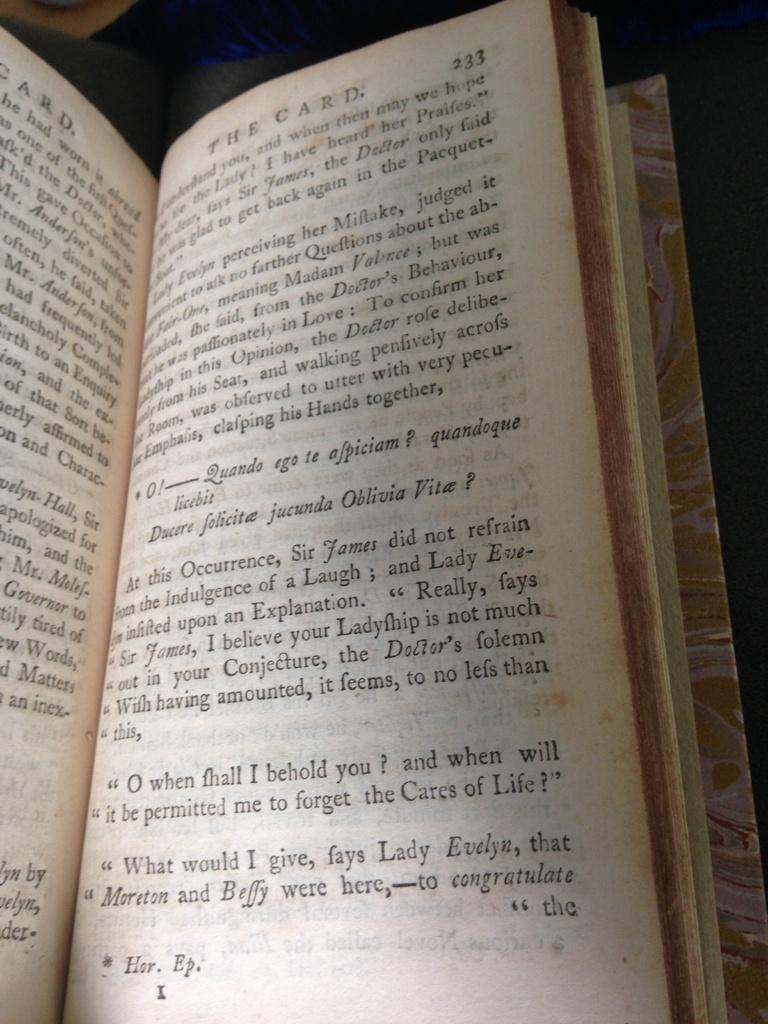Book: (1, 1, 761, 1021)
